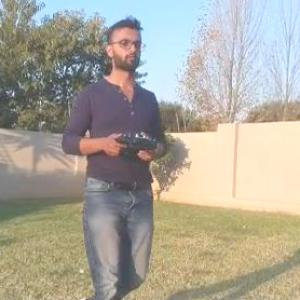follow: (58, 5, 179, 299)
